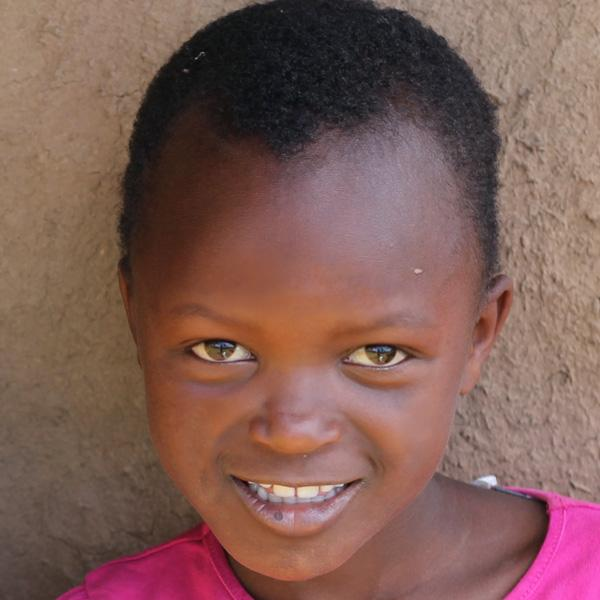Eyes: (171, 323, 265, 381), (333, 329, 428, 385)
